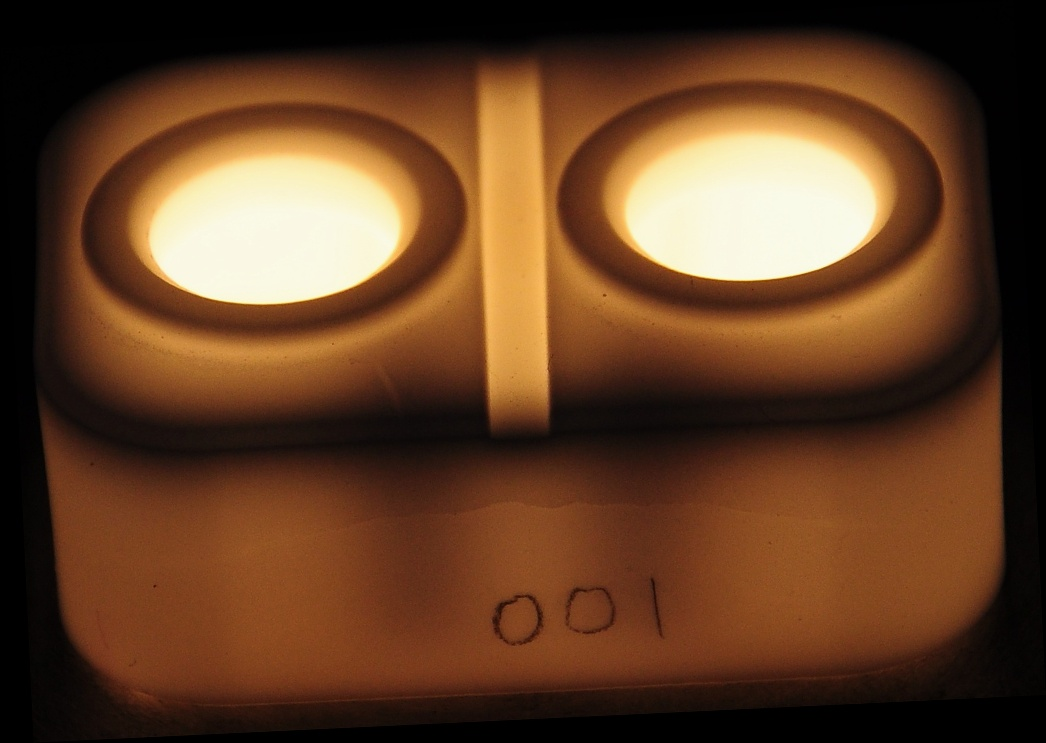flaw: (177, 488, 950, 579)
protrusion: (599, 288, 614, 305)
